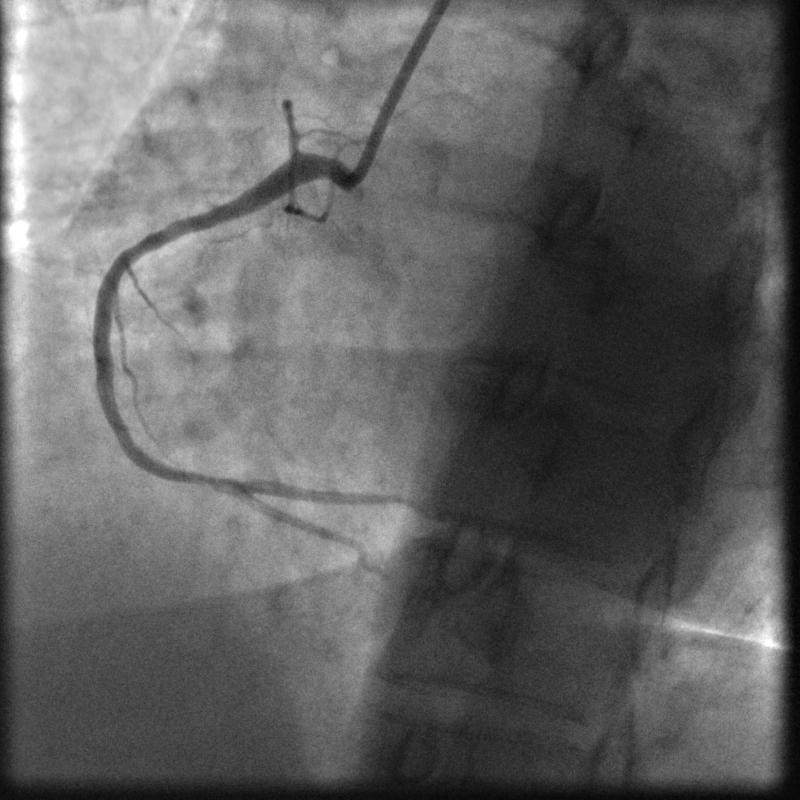Stenosis: (181, 461, 224, 501)
